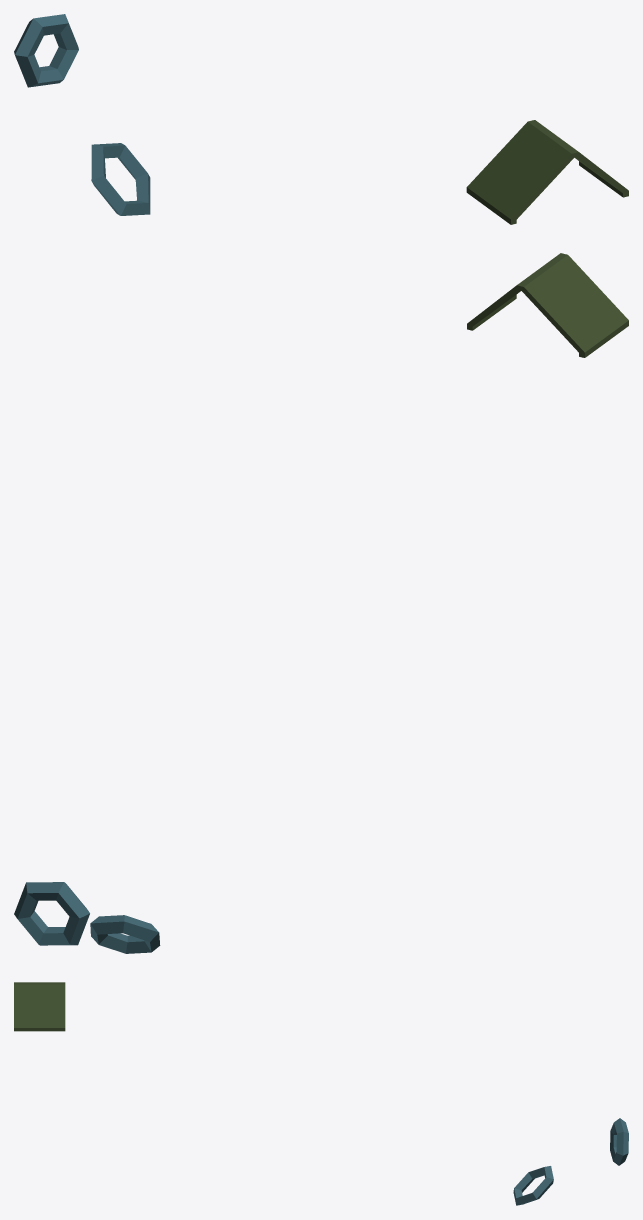
3 views of the same model, one above another, from view 1: azimuth 30°, elevation 25°; view 2: azimuth 150°, elevation 25°; view 3: azimuth 270°, elevation 25° (orthographic). The views are drawn at different scales.
Parts seen in each view (by area): view 1: Object269_roof1_0, Torus022_metal_0, Torus074_metal_0; view 2: Object269_roof1_0, Torus022_metal_0, Torus074_metal_0; view 3: Object269_roof1_0, Torus074_metal_0, Torus022_metal_0.
Part boxes in pixels (x1,y1,x2,y2): Object269_roof1_0: (466,120,628,224); Torus022_metal_0: (14,14,78,87); Torus074_metal_0: (91,143,150,215); Object269_roof1_0: (467,253,628,357); Torus022_metal_0: (14,882,89,945); Torus074_metal_0: (90,915,160,953); Object269_roof1_0: (14,982,65,1031); Torus074_metal_0: (513,1166,553,1205); Torus022_metal_0: (610,1118,628,1165).
Size of the model in its own units: 574 by 1765 by 4451.
